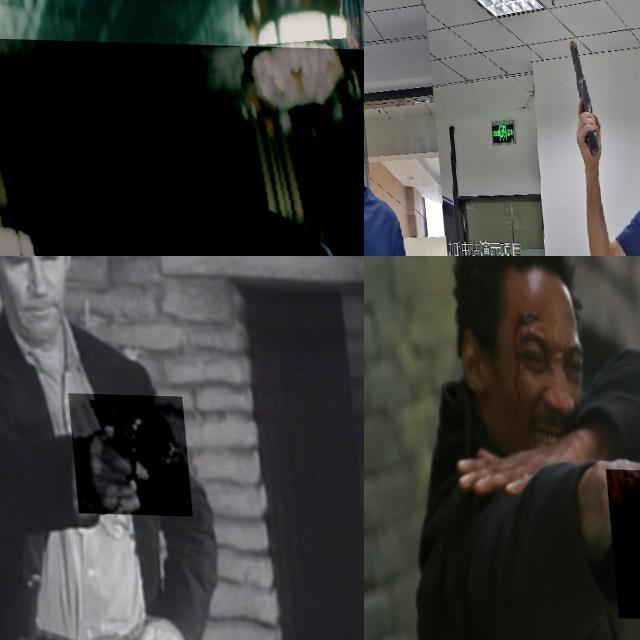gun-knife-thesis - v11 Yolov5 augmented: (0, 36, 364, 256), (64, 392, 186, 514), (600, 467, 640, 619), (556, 34, 598, 150), (364, 96, 388, 215)
